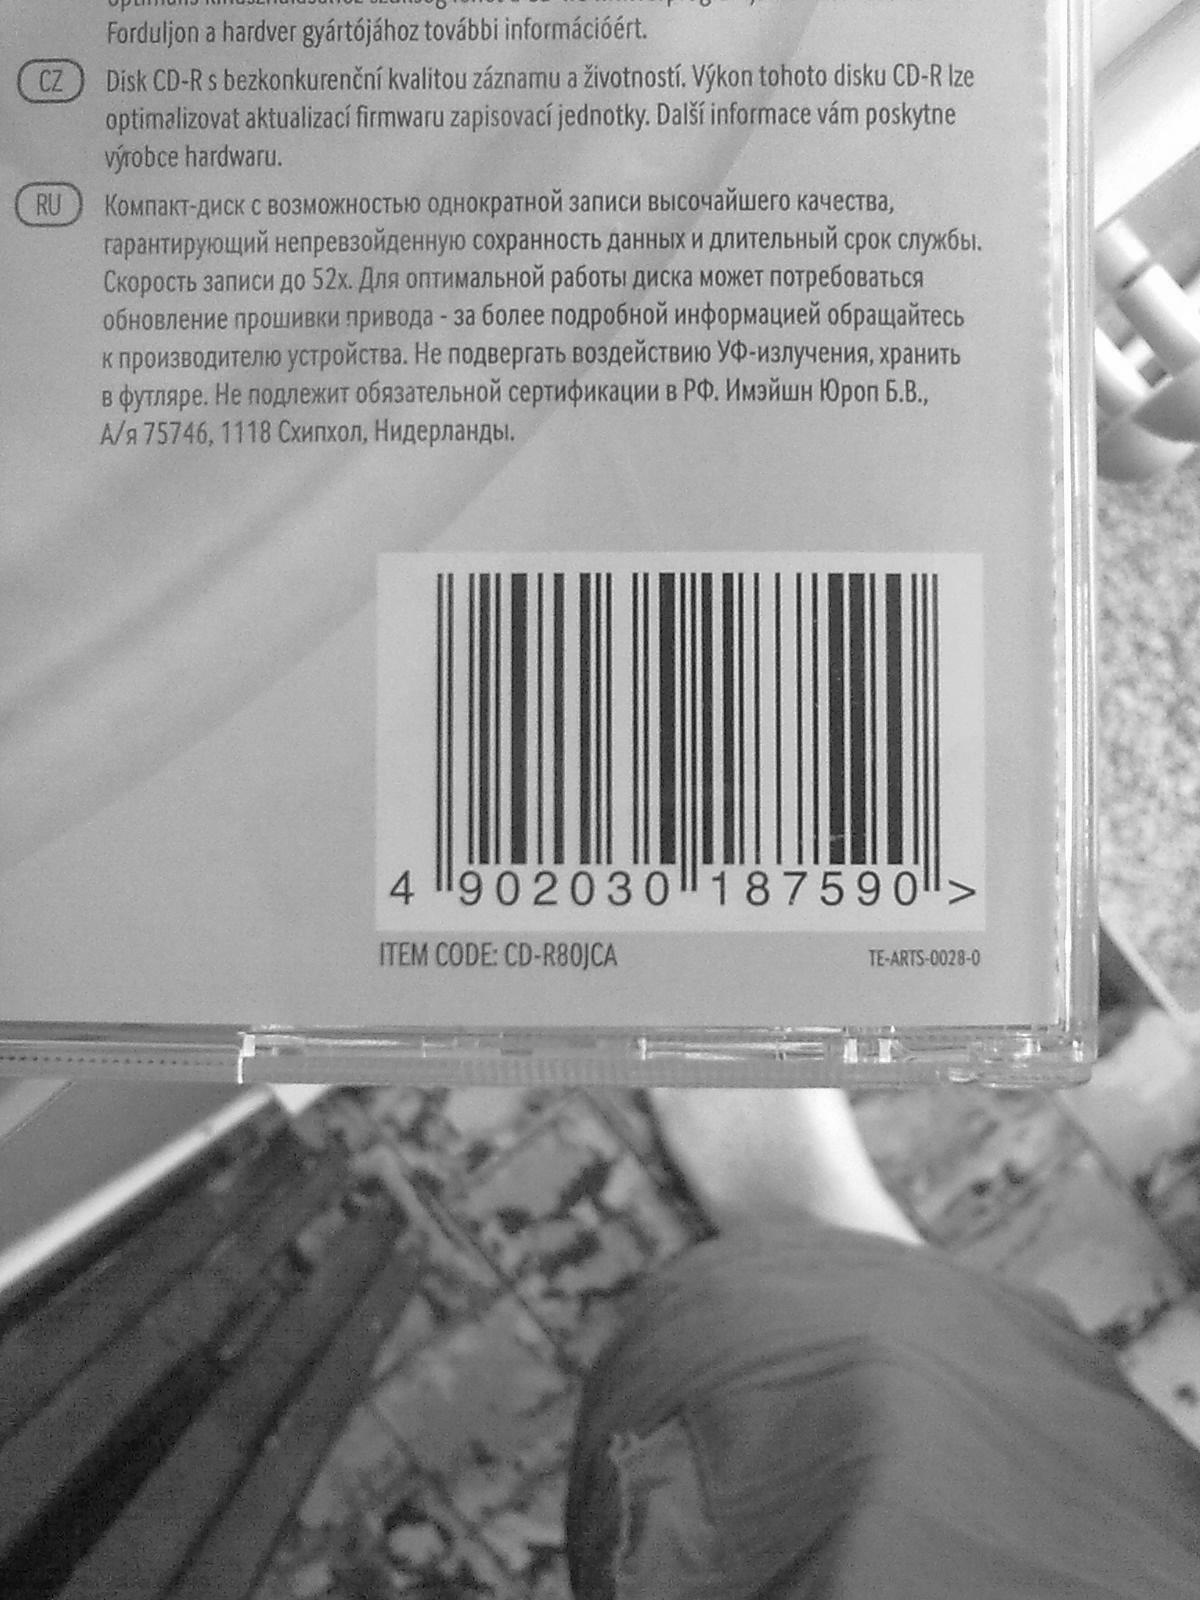Barcode: (354, 553, 1007, 945)
